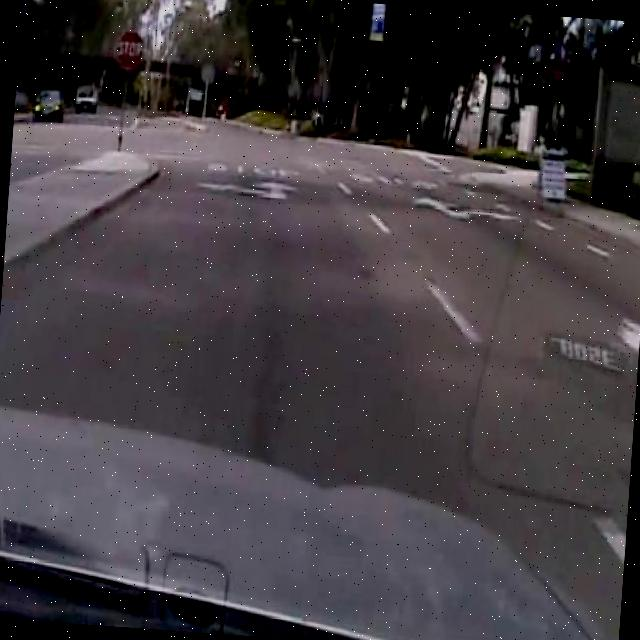Stop: (110, 27, 148, 77)
